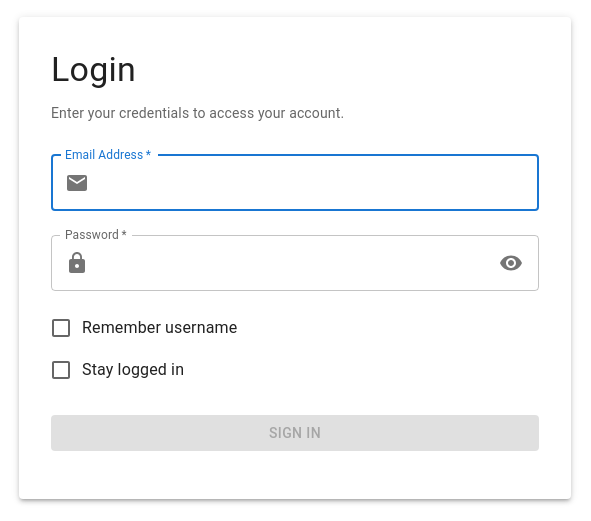
Test case: Login Page › disables submit until fields are filled
Expected: the button "Sign In" is disabled, [51,415,539,451]
Type "john@example.com" into the field with id "email" at (318, 183), box [97,155,539,211]
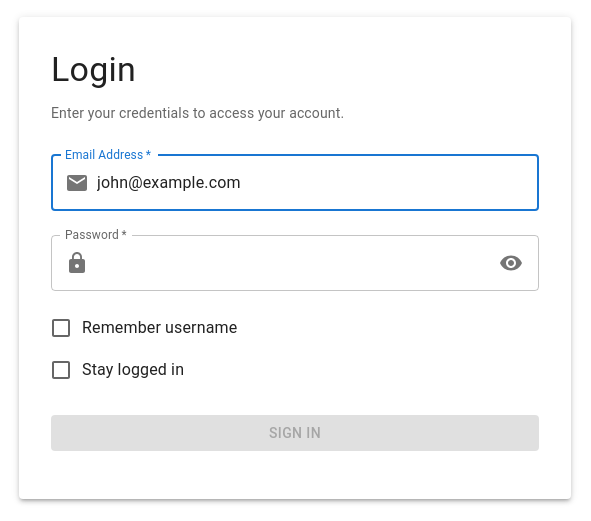
Expected: the button "Sign In" is disabled, [51,415,539,451]
Type "Test123@" into the password field labelled "Password *" at (292, 263), box [97,235,486,291]
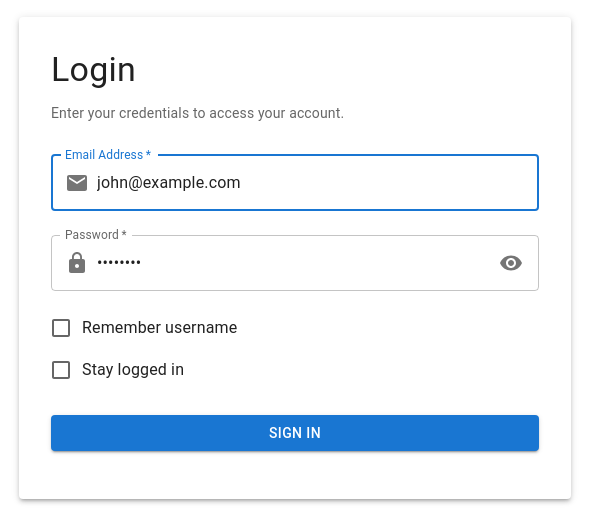
Result: the button "Sign In" is enabled at [51,415,539,451]
